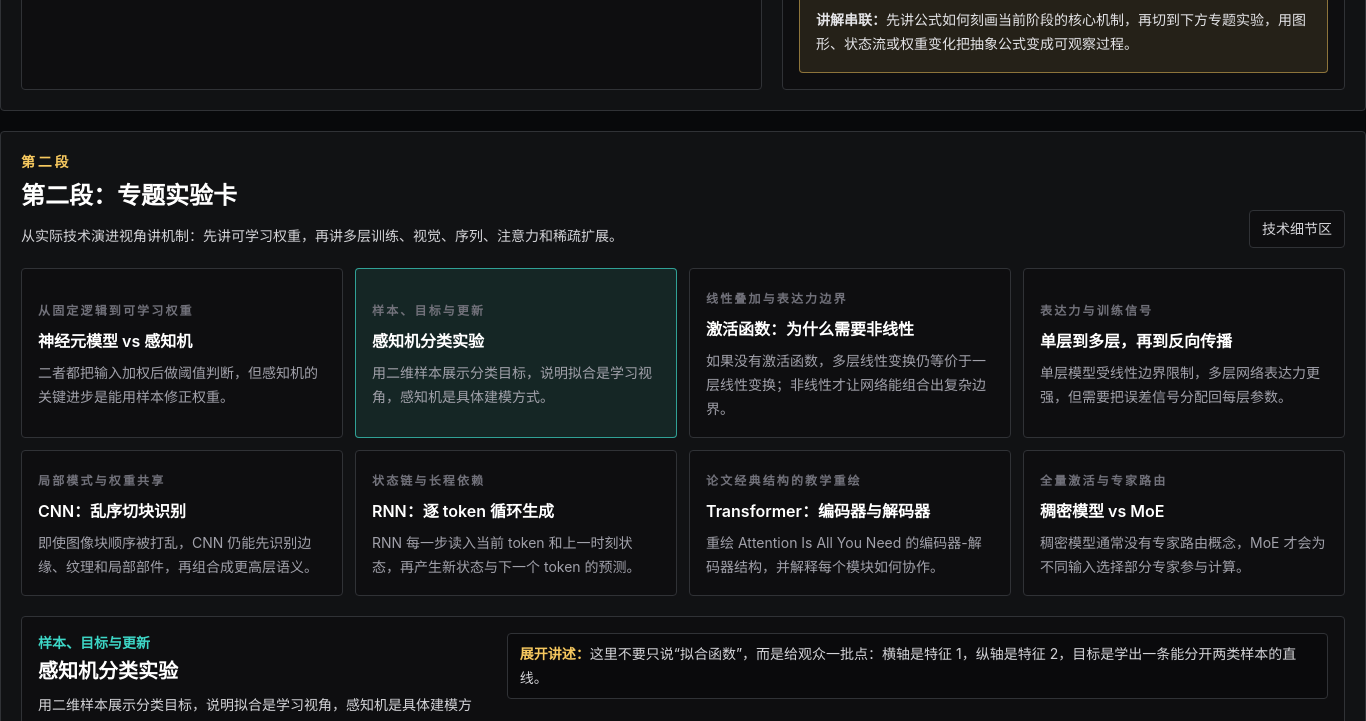
Test: ModelEvolutionLab › renders technical lab cards for concrete model evolution mechanisms
The width and height of the screenshot is (1366, 721).
(page scrolled)
Click the button with test id "tech-lab-trigger-perceptron-classification": (429, 310) [355, 268, 677, 438]
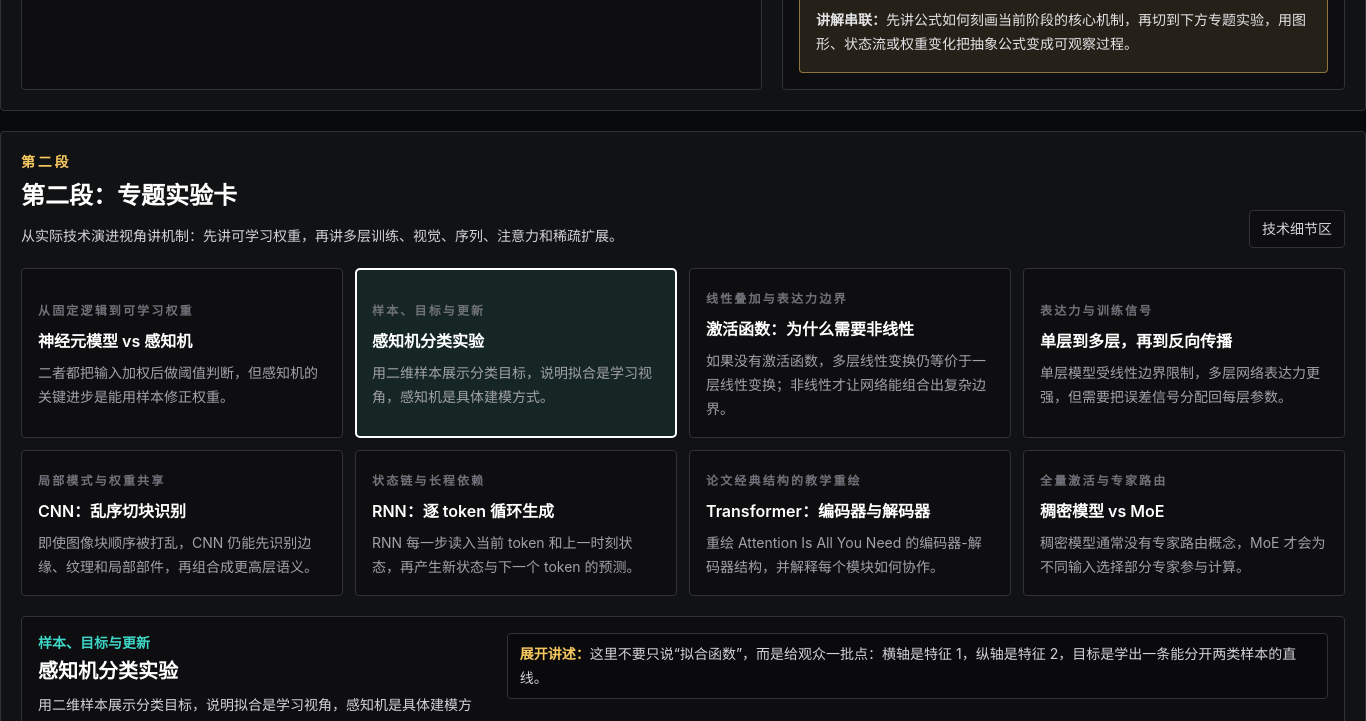
Click the button with test id "tech-lab-trigger-cnn-patches": (182, 523) [21, 450, 343, 596]
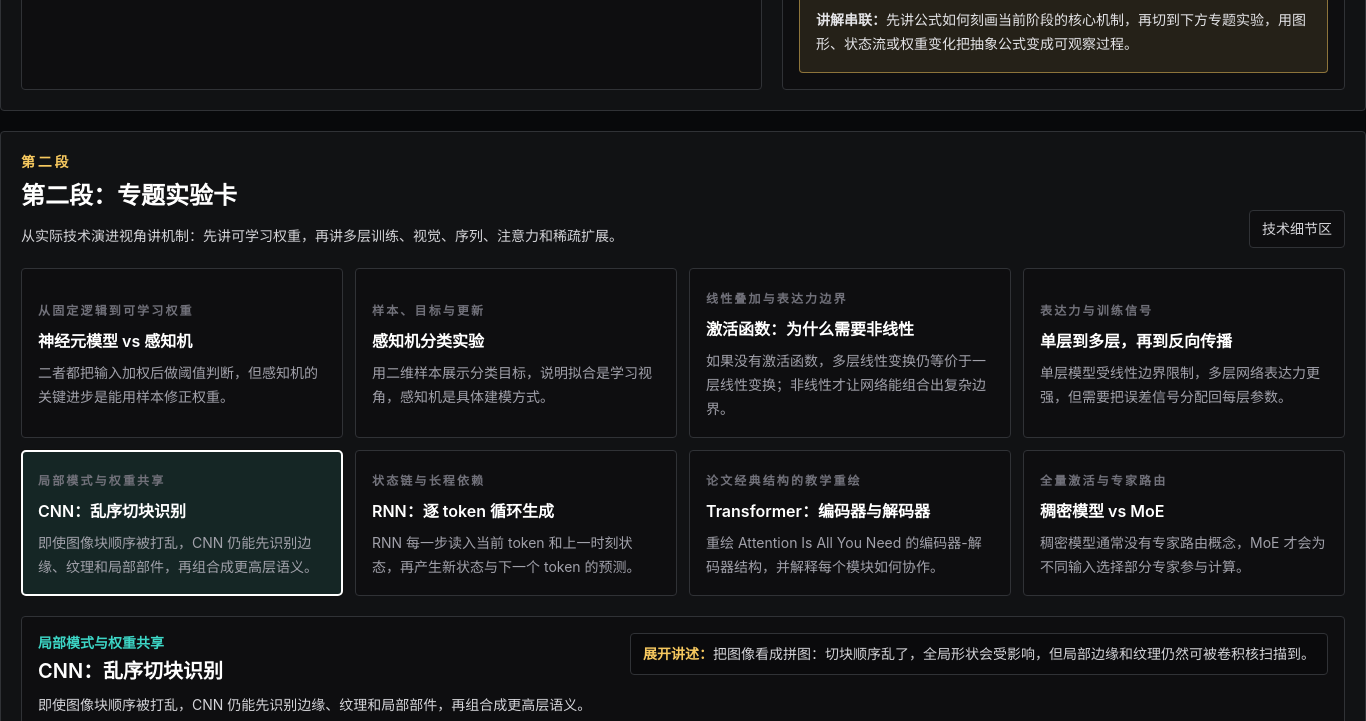
Click the button with test id "tech-lab-trigger-rnn-generation": (516, 523) [355, 450, 677, 596]
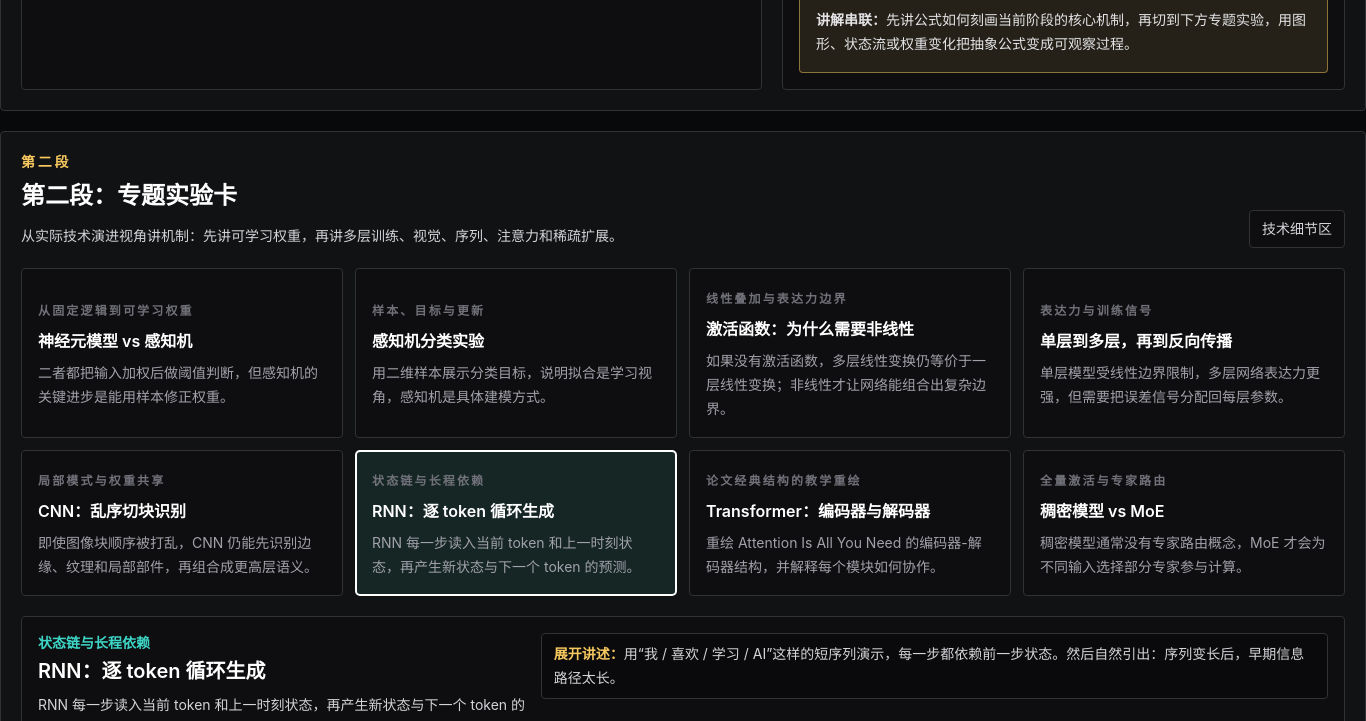
Click the button with test id "tech-lab-trigger-transformer-architecture": (850, 523) [689, 450, 1011, 596]
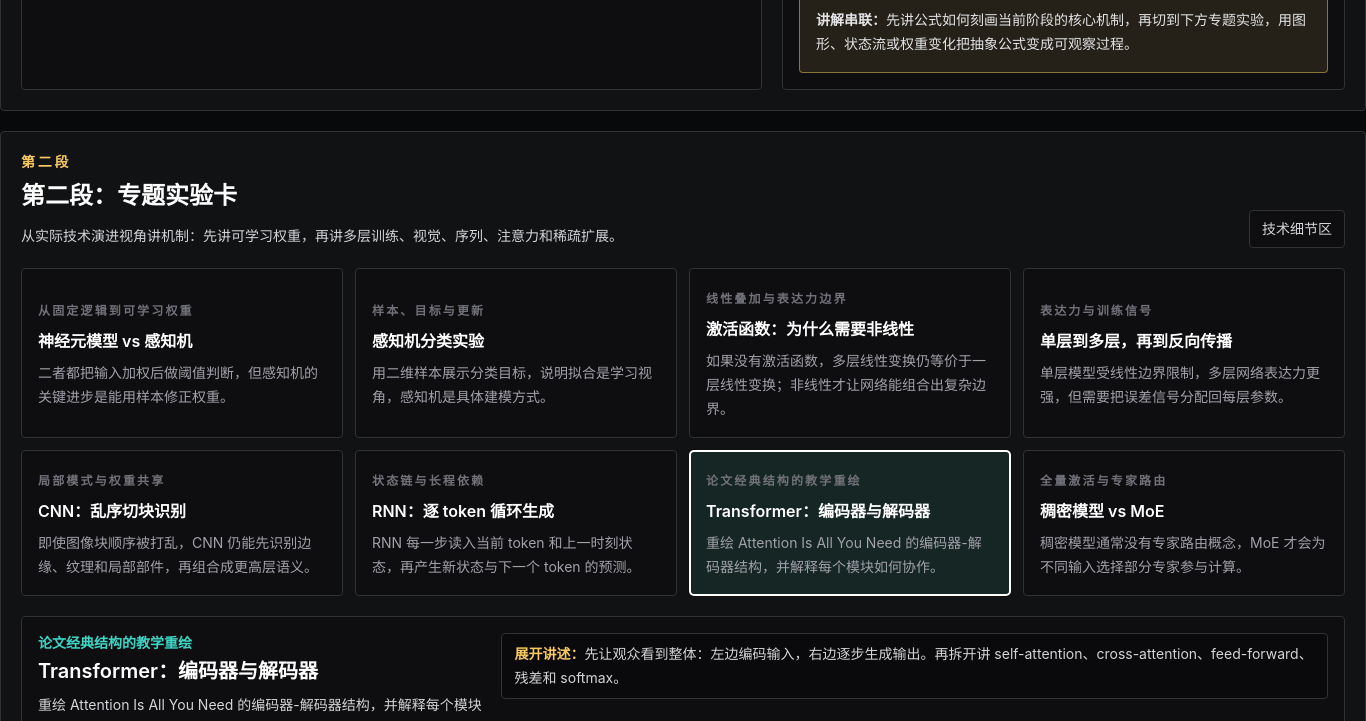
Click the button with test id "tech-lab-trigger-dense-moe": (1104, 480) [1023, 450, 1345, 596]
(page scrolled)
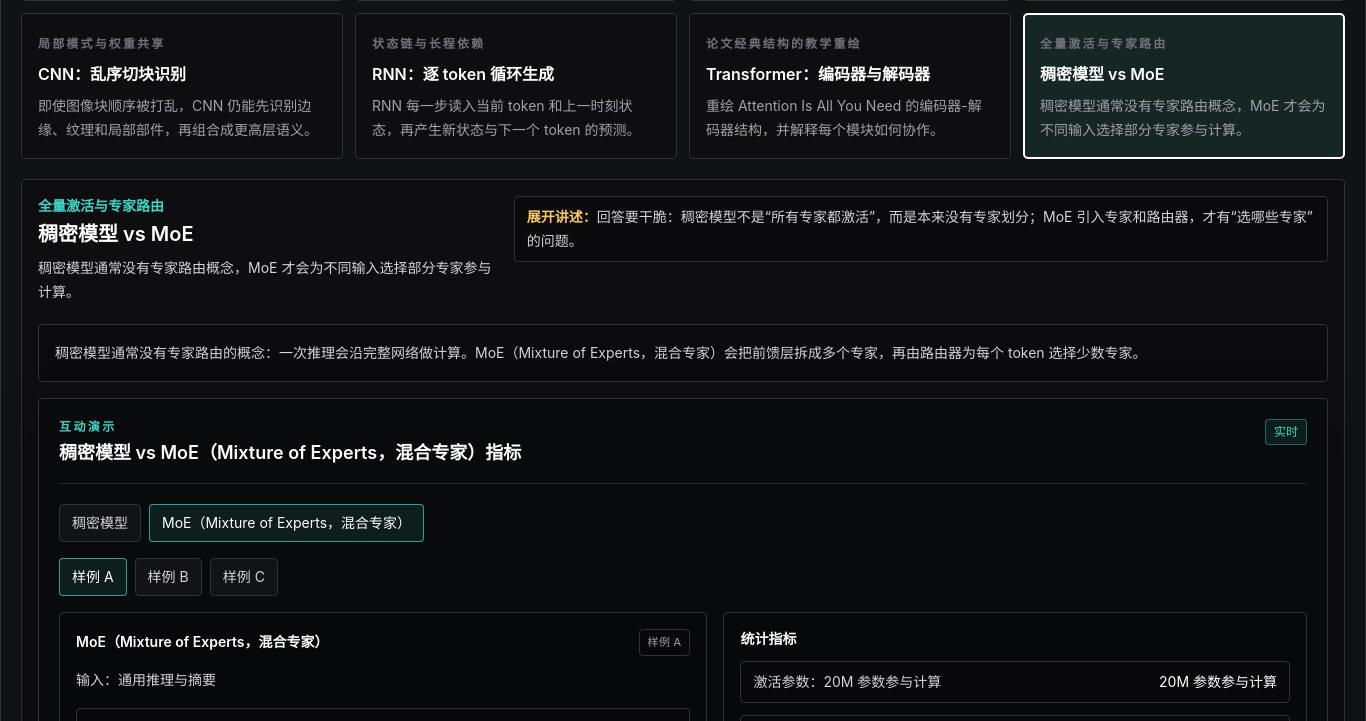
Result: the text with test id "dense-moe-explanation" is shown at [38, 324, 1328, 382]
